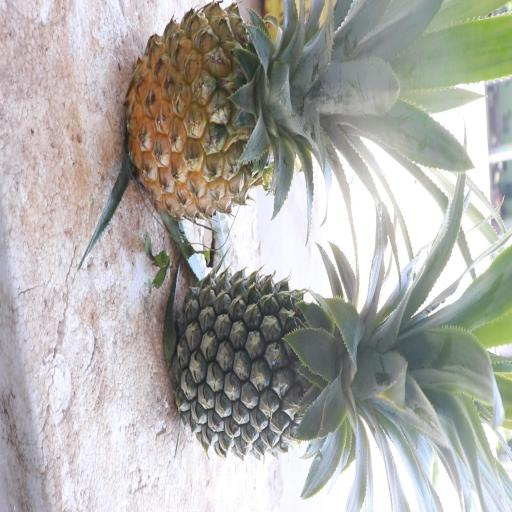Pineapple - v8 v1: (122, 0, 410, 210)
